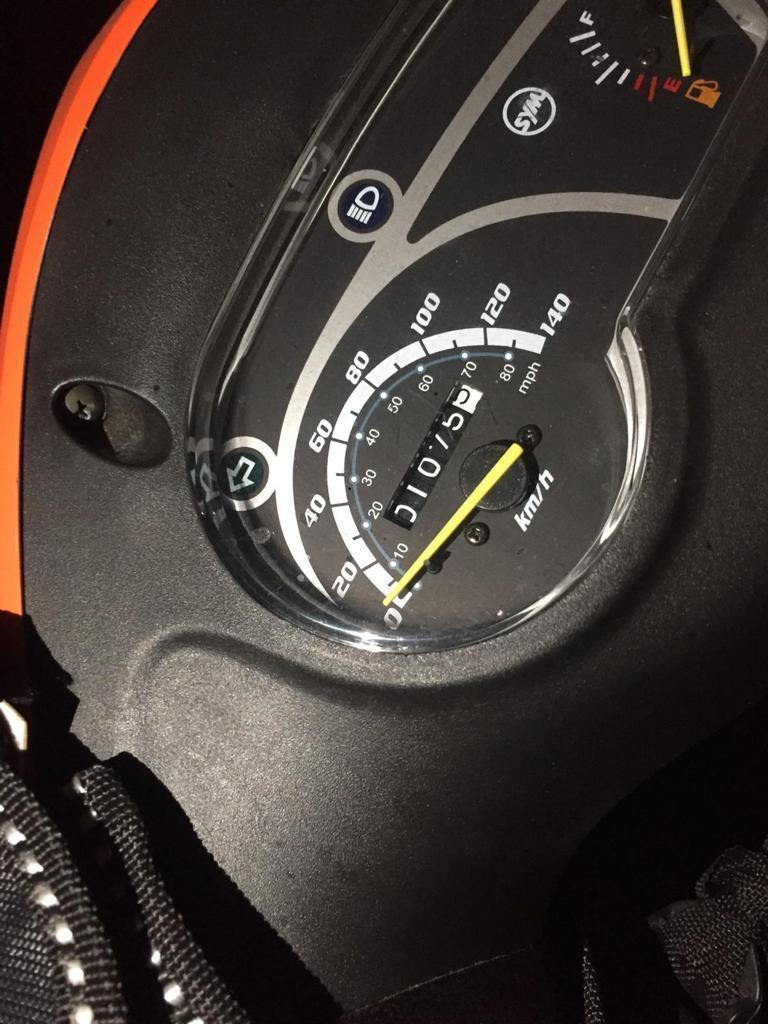0: (416, 455, 443, 479), (390, 502, 417, 523), (391, 395, 402, 406), (421, 375, 434, 383)
1: (404, 482, 428, 499)
5: (436, 409, 465, 430), (446, 383, 472, 405), (385, 403, 399, 413)
6: (416, 382, 430, 391)
7: (424, 432, 450, 452)
odometer: (378, 375, 486, 533)
